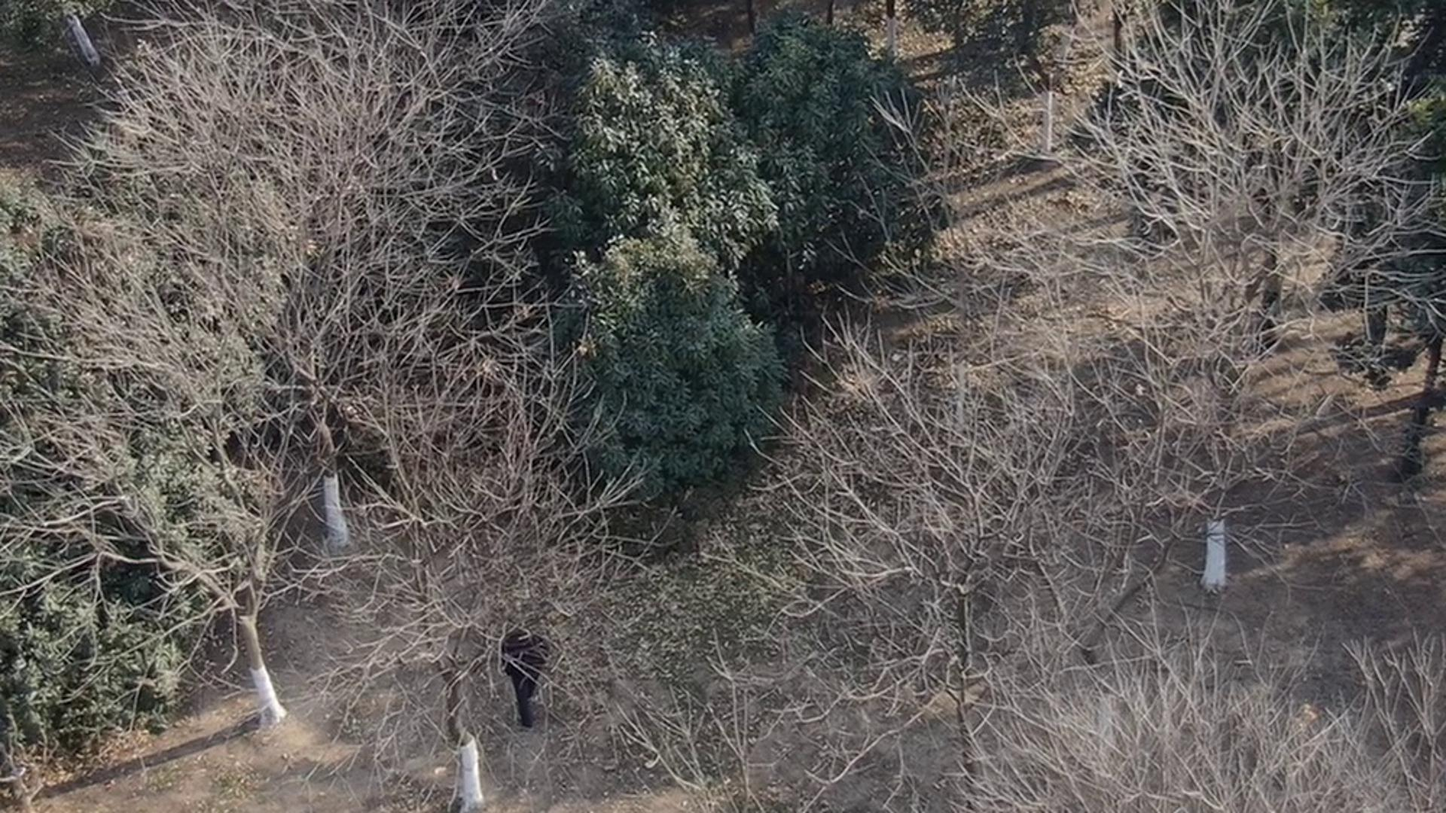human: (475, 601, 535, 717)
